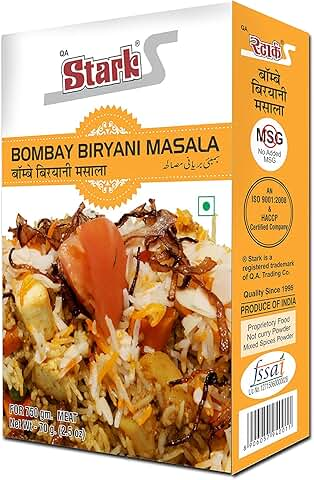Biryani: (1, 16, 310, 478)
